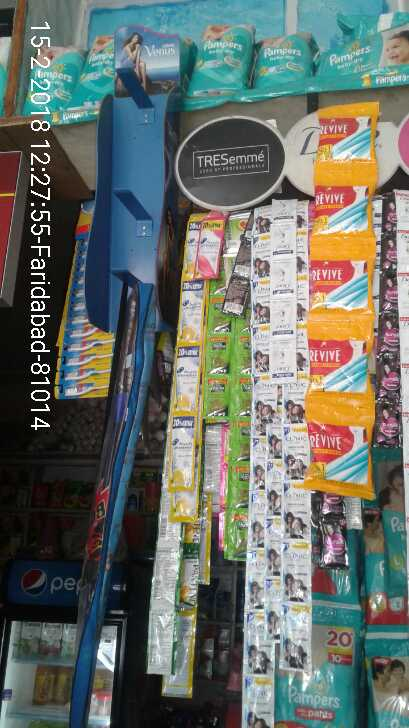pampers: (275, 601, 362, 726), (320, 21, 409, 77), (194, 23, 248, 94), (259, 35, 310, 91), (78, 37, 115, 101)
